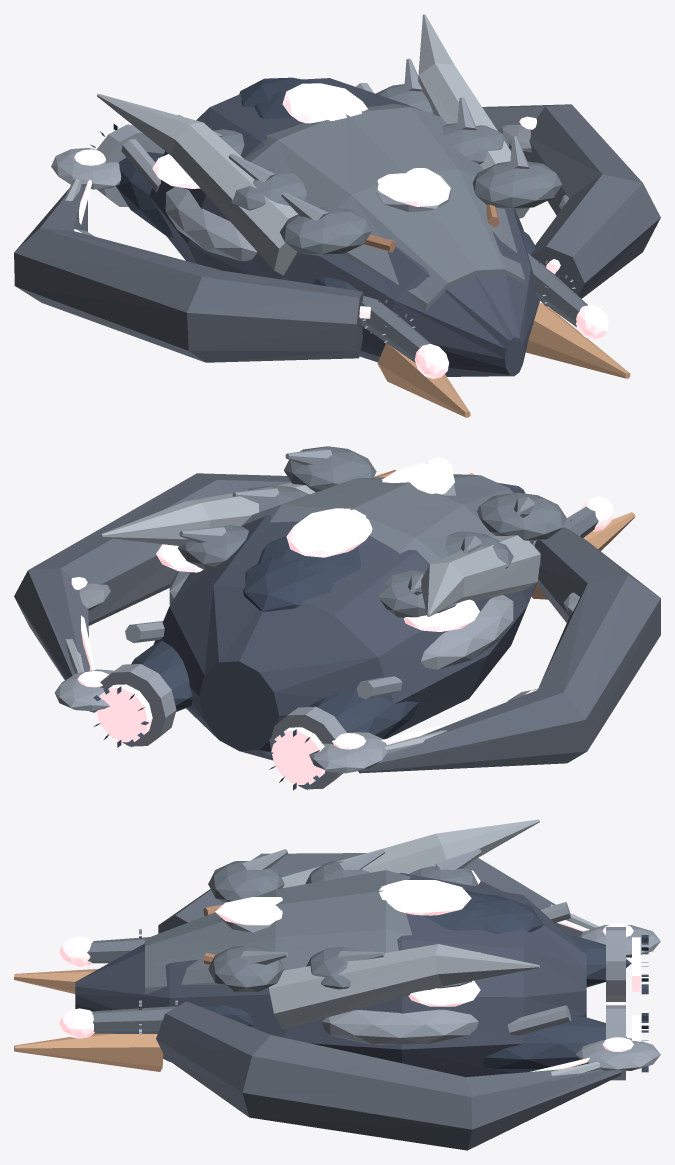
File: npc_bossDevolarium.glb
3 renders of one model, top to bottom at view 1: azimuth 30°, elevation 25°; view 2: azimuth 150°, elevation 25°; view 3: azimuth 270°, elevation 25°, orthographic. The views are drawn at different scales.
Parts seen in each view (by area): view 1: armored_scythe_-1, upper_armor_scar, keel_pressure_hull, armored_scythe_1, prime_arch_back_-1, prime_arch_back_1, prime_secondary_horn_1, dreadnox_dorsal_plating_1_0, dreadnox_dorsal_plating_-1_0, heavy_shield_pad_-1, prime_secondary_horn_-1, prime_emitter (+15 smaller); view 2: keel_pressure_hull, armored_scythe_-1, armored_scythe_1, upper_armor_scar, prime_arch_back_-1, prime_arch_back_1, destroyer_turret, heavy_shield_pad_-1, prime_emitter, dreadnox_dorsal_plating_-1_0, engine_armor_-1, exhaust_coil_1 (+23 smaller); view 3: armored_scythe_1, keel_pressure_hull, upper_armor_scar, prime_arch_back_1, heavy_shield_pad_1, prime_arch_back_-1, engine_armor_1, armored_scythe_-1, prime_secondary_horn_1, prime_emitter, dreadnox_dorsal_plating_1_0, dreadnox_dorsal_plating_-1_0 (+23 smaller).
Part boxes in pixels (box(x1,y1,x2,y2)): armored_scythe_-1: box(14, 186, 363, 362); upper_armor_scar: box(245, 104, 527, 311); keel_pressure_hull: box(149, 78, 539, 376); armored_scythe_1: box(482, 104, 660, 306); prime_arch_back_-1: box(97, 93, 297, 275); prime_arch_back_1: box(418, 14, 529, 218); prime_secondary_horn_1: box(525, 302, 630, 378); dreadnox_dorsal_plating_1_0: box(472, 161, 562, 209); dreadnox_dorsal_plating_-1_0: box(280, 206, 372, 256); heavy_shield_pad_-1: box(165, 186, 256, 261); prime_secondary_horn_-1: box(377, 343, 470, 417); prime_emitter: box(282, 83, 367, 123); keel_pressure_hull: box(153, 483, 536, 760); armored_scythe_-1: box(358, 527, 660, 773); armored_scythe_1: box(14, 473, 291, 679); upper_armor_scar: box(242, 474, 513, 564); prime_arch_back_-1: box(421, 535, 540, 616); prime_arch_back_1: box(100, 483, 315, 546); destroyer_turret: box(243, 557, 333, 611); heavy_shield_pad_-1: box(421, 595, 513, 670); prime_emitter: box(286, 508, 372, 557); dreadnox_dorsal_plating_-1_0: box(477, 492, 566, 541); engine_armor_-1: box(309, 692, 418, 738); exhaust_coil_1: box(100, 664, 176, 746); armored_scythe_1: box(156, 1001, 621, 1150); keel_pressure_hull: box(75, 873, 586, 1077); upper_armor_scar: box(145, 870, 412, 994); prime_arch_back_1: box(269, 944, 539, 1029); heavy_shield_pad_1: box(322, 1009, 478, 1044); prime_arch_back_-1: box(281, 819, 539, 887); engine_armor_1: box(482, 1014, 627, 1072); armored_scythe_-1: box(158, 853, 582, 936); prime_secondary_horn_1: box(14, 1033, 163, 1071); prime_emitter: box(379, 880, 471, 915); dreadnox_dorsal_plating_1_0: box(208, 945, 284, 992); dreadnox_dorsal_plating_-1_0: box(208, 861, 284, 902).
Bounding box in the file's own units: 4.83 × 1.64 × 5.17.
